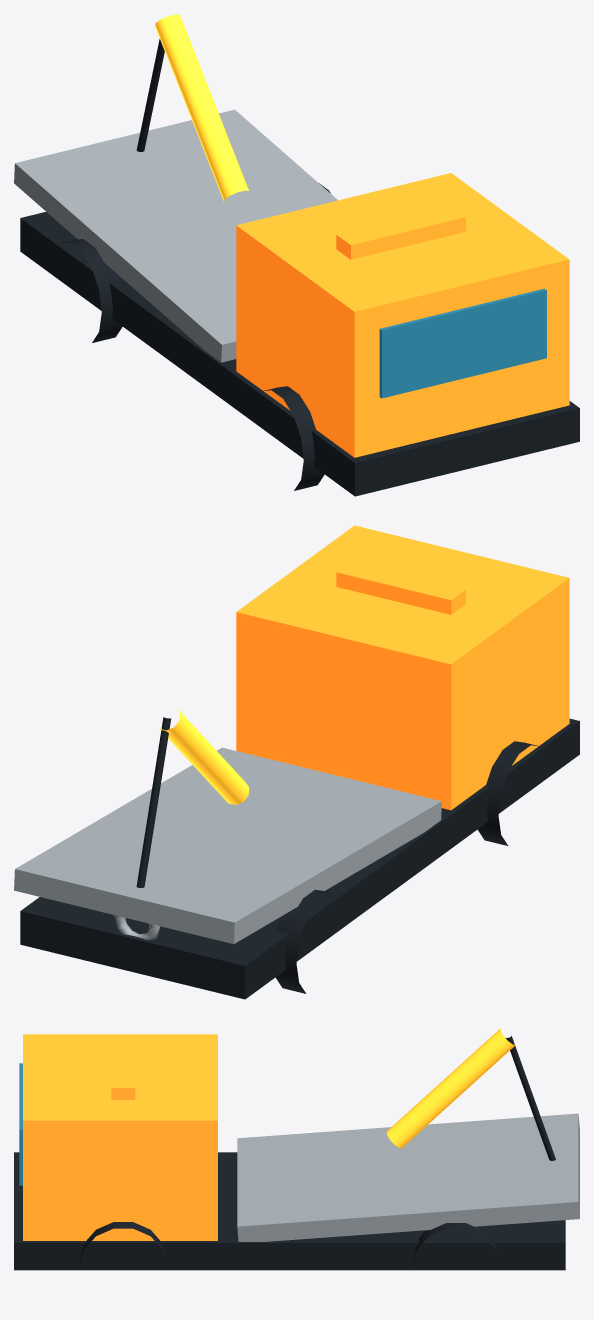
Rendered from tow-truck.glb.
The picture shows the model from 3 angles, top to bottom: view 1: azimuth 30°, elevation 25°; view 2: azimuth 150°, elevation 25°; view 3: azimuth 270°, elevation 25°; orthographic projection. The views are drawn at different scales.
Parts seen in each view (by area): view 1: cab, flatbed, chassis, windshield, boom, lightbar, wheel_-1.12_1.75, wheel_-1.12_-1.75, hook_cable; view 2: cab, flatbed, chassis, lightbar, boom, wheel_-1.12_-1.75, wheel_-1.12_1.75, hook_cable; view 3: cab, flatbed, chassis, boom, lightbar, hook_cable, wheel_1.12_-1.75, wheel_1.12_1.75, windshield.
Part boxes in pixels (left/top/right/bottom): cab: left=236, top=173, right=569, bottom=457; flatbed: left=14, top=109, right=337, bottom=362; chassis: left=20, top=212, right=579, bottom=496; windshield: left=379, top=288, right=546, bottom=398; boom: left=155, top=14, right=248, bottom=201; lightbar: left=336, top=206, right=465, bottom=259; wheel_-1.12_1.75: left=263, top=386, right=324, bottom=490; wheel_-1.12_-1.75: left=60, top=239, right=122, bottom=342; hook_cable: left=136, top=39, right=164, bottom=151; cab: left=236, top=525, right=569, bottom=810; flatbed: left=14, top=747, right=441, bottom=943; chassis: left=20, top=718, right=579, bottom=999; lightbar: left=336, top=562, right=465, bottom=614; boom: left=159, top=708, right=249, bottom=805; wheel_-1.12_-1.75: left=275, top=889, right=337, bottom=993; wheel_-1.12_1.75: left=477, top=741, right=540, bottom=845; hook_cable: left=136, top=717, right=171, bottom=887; cab: left=23, top=1034, right=217, bottom=1240; flatbed: left=237, top=1113, right=579, bottom=1241; chassis: left=14, top=1152, right=565, bottom=1270; boom: left=386, top=1028, right=515, bottom=1148; lightbar: left=111, top=1041, right=135, bottom=1099; hook_cable: left=506, top=1036, right=555, bottom=1160; wheel_1.12_-1.75: left=412, top=1223, right=499, bottom=1266; wheel_1.12_1.75: left=79, top=1222, right=166, bottom=1265; windshield: left=19, top=1063, right=22, bottom=1185.
Bounding box in the file's own units: 2.48 × 2.63 × 5.95.
